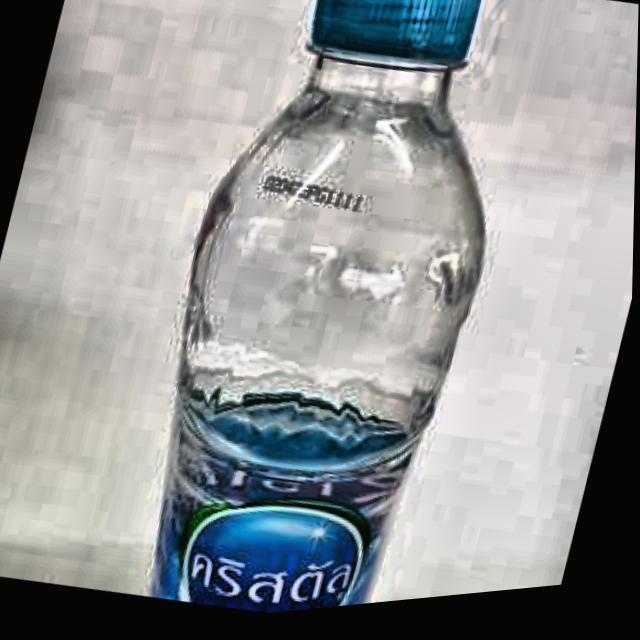Bottles: (106, 0, 576, 631)
